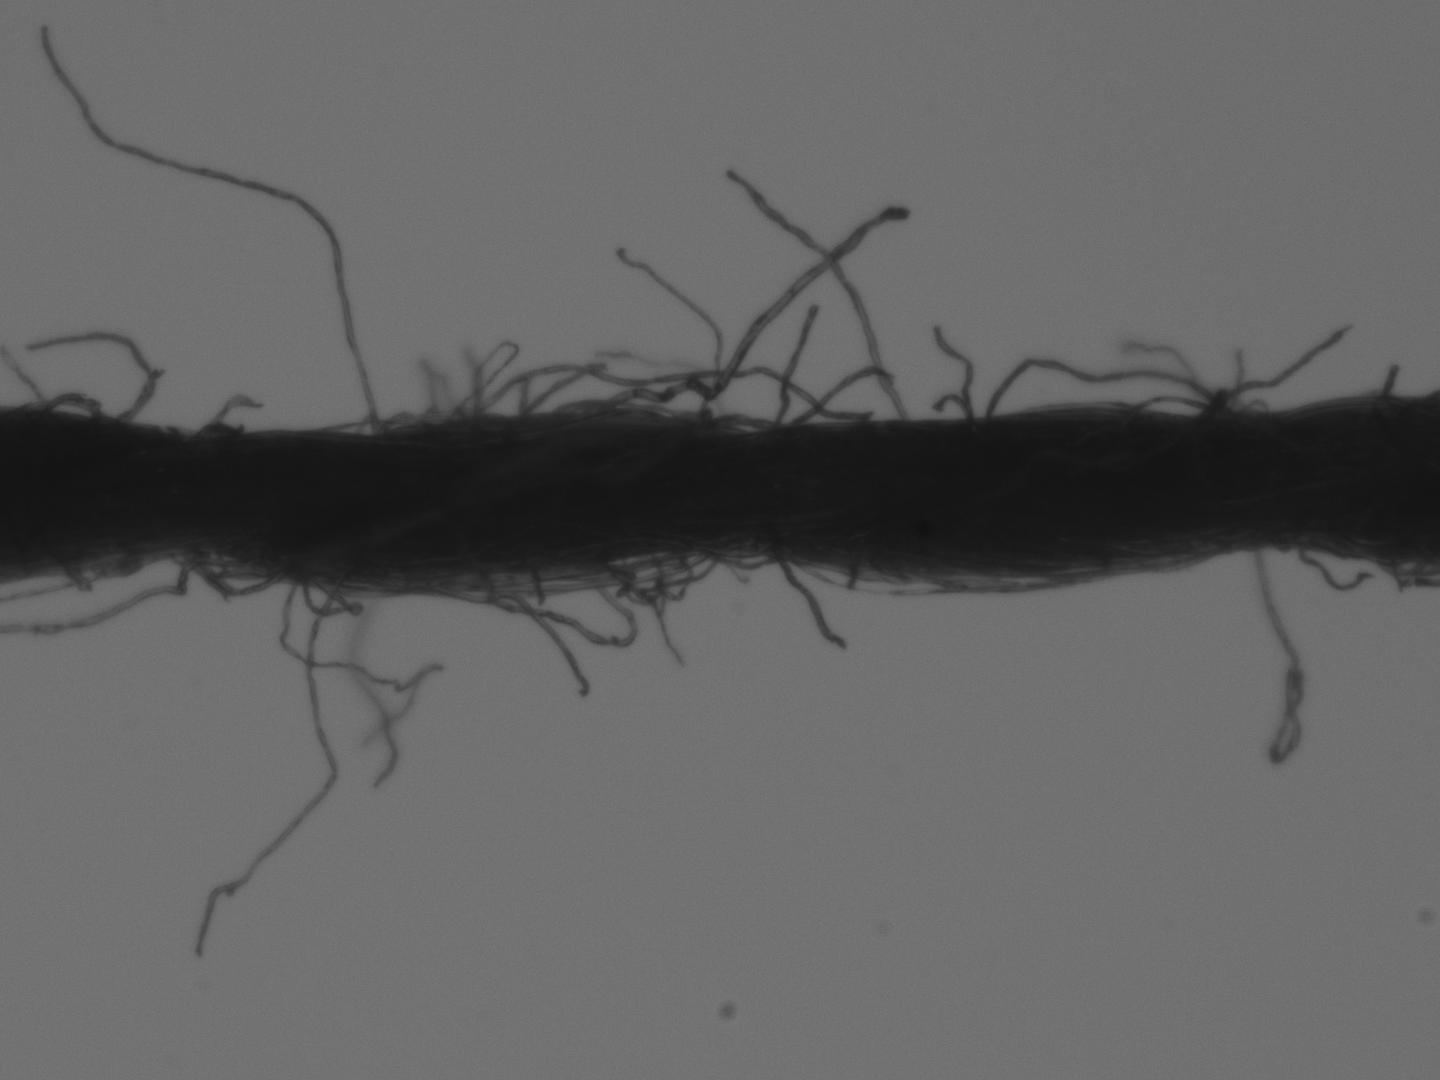loop_fiber: (469, 362, 871, 424), (407, 565, 639, 647), (981, 354, 1250, 420), (596, 541, 692, 611), (181, 549, 291, 600), (686, 407, 793, 430), (1126, 394, 1235, 414), (31, 390, 100, 416)
protruding_fiber: (725, 159, 914, 421), (764, 548, 854, 659)
